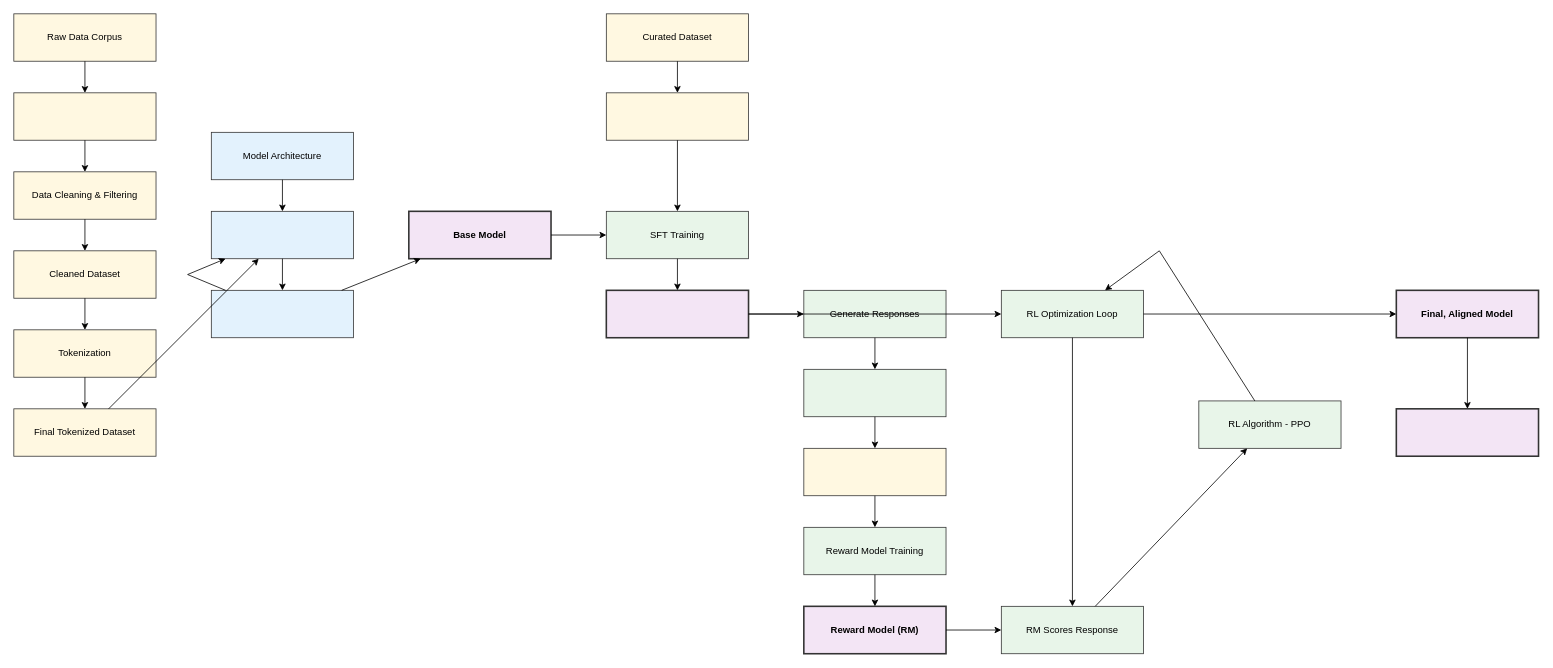
Some shapes in this 1553 by 668 pixel diagram are drawn without their labels. The centre of each missing label's shape, as x and y in pixels:
"Continual Checkpointing" goes at (282,314).
"Deployed Model" goes at (1467,432).
"Human Raters" goes at (874,393).
"Human-Written Data" goes at (677,116).
"Massive, diverse text from web, books, code" goes at (84,116).
"Preference Dataset" goes at (874,472).
"SFT Model" goes at (677,313).
"Training Loop" goes at (282,235).
